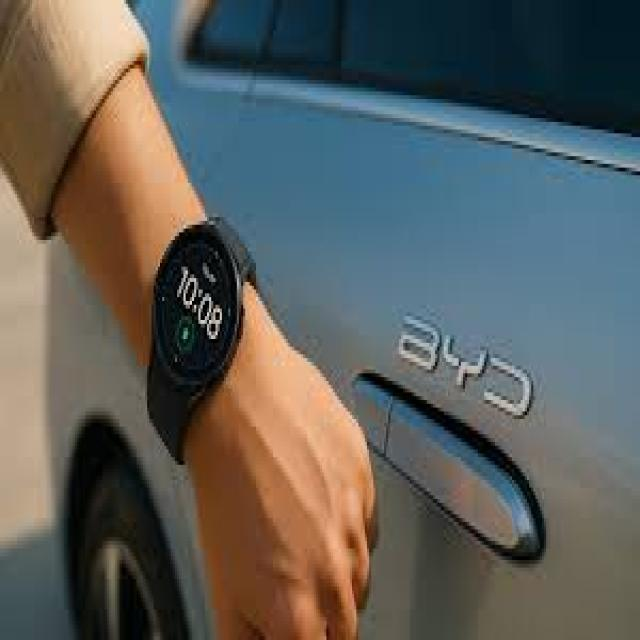objects: (146, 215, 247, 402)
